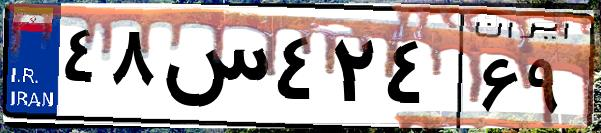2: (330, 28, 385, 110)
4: (270, 28, 330, 110), (385, 28, 445, 110), (57, 26, 110, 100)
6: (475, 38, 525, 113)
8: (110, 28, 158, 98)
9: (525, 38, 570, 115)
س: (158, 20, 270, 120)
